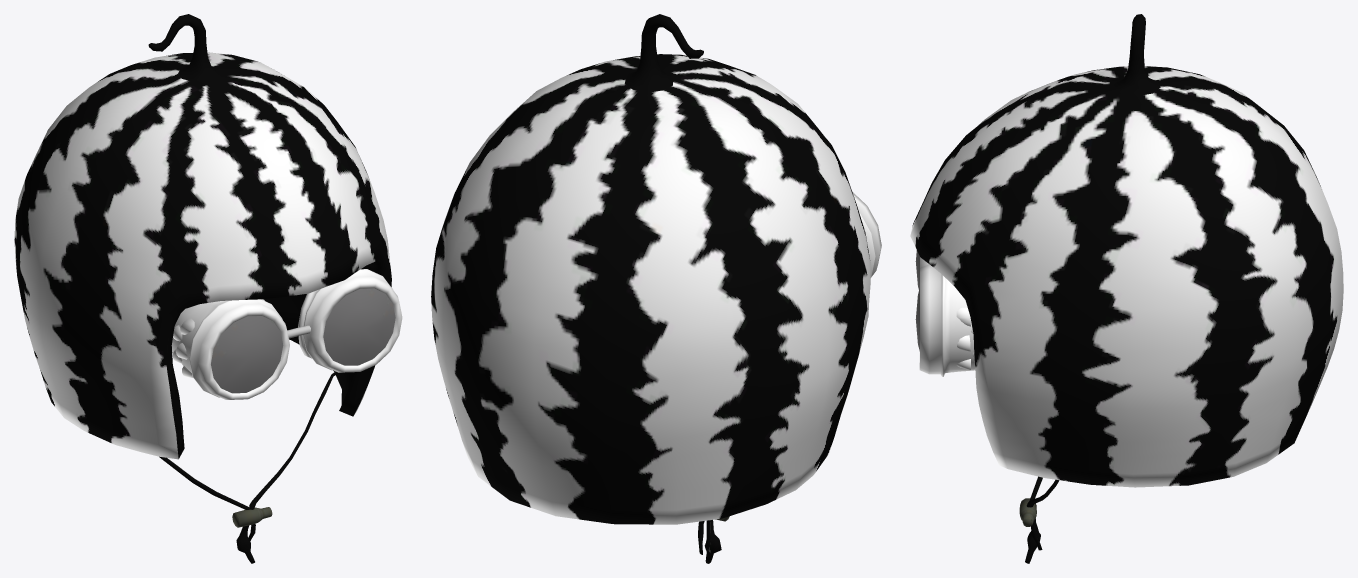
File: SurvivorMale_Head_Helmet_Watermelon_LOD0.glb
3 renders of one model, left to right at view 1: azimuth 30°, elevation 25°; view 2: azimuth 150°, elevation 25°; view 3: azimuth 270°, elevation 25°, orthographic. The views are drawn at different scales.
Visible parts, largest first — view 1: Hoodie; view 2: Hoodie; view 3: Hoodie.
Boxes of the visible parts, x1,y1,x2,y2 form: Hoodie: [14, 14, 402, 563]; Hoodie: [431, 14, 881, 563]; Hoodie: [910, 14, 1343, 563].
Bounding box in the file's own units: 0.2283 × 0.3538 × 0.2574.
1 material, 1 textured.
